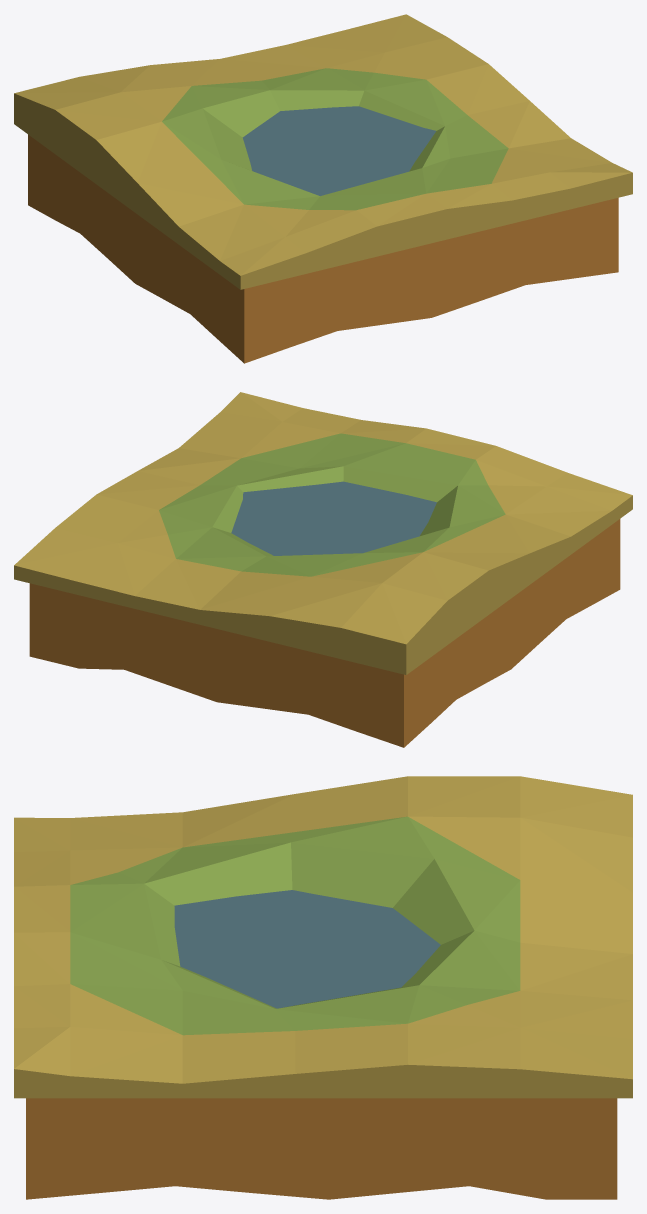
Rendered from world-oasis.fbx.
3 views of the same model, one above another, from view 1: azimuth 30°, elevation 25°; view 2: azimuth 150°, elevation 25°; view 3: azimuth 270°, elevation 25° (orthographic). The views are drawn at different scales.
Visible parts, largest first — view 1: world-oasis; view 2: world-oasis; view 3: world-oasis.
Part boxes in pixels (left/top/right/bottom): world-oasis: left=14, top=14, right=632, bottom=363; world-oasis: left=14, top=392, right=632, bottom=747; world-oasis: left=14, top=776, right=632, bottom=1199.
Bounding box in the file's own units: 20 × 20 × 6.12.
